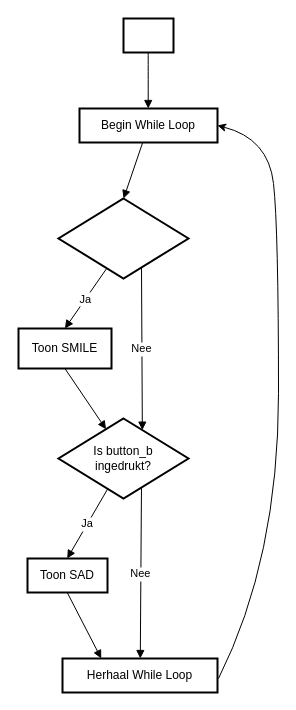
Some shapes in this 296 by 710 pixel diagram are drawn without their labels. Each missing label, with the centre of its shape:
"Is button_a ingedrukt?" goes at (x=123, y=238).
"Start" goes at (x=148, y=35).
